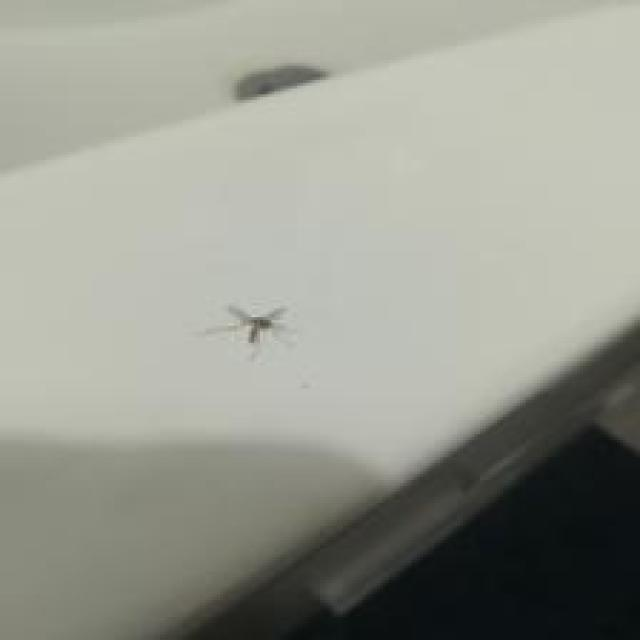Culex: (204, 302, 290, 347)
